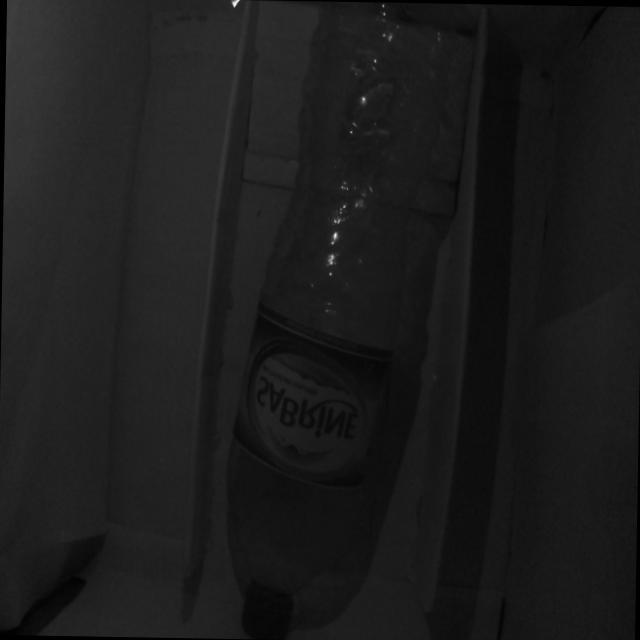good: (191, 0, 492, 640)
